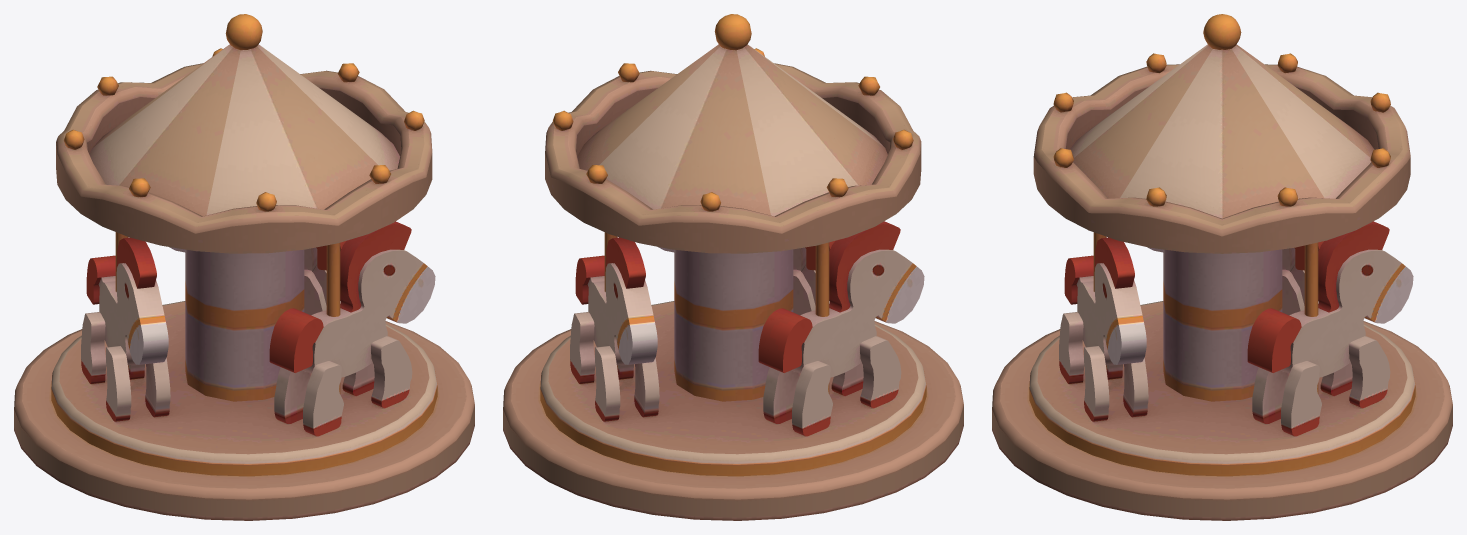
The model's file is Props.fbx.
The picture shows the model from 3 angles, left to right: view 1: azimuth 30°, elevation 25°; view 2: azimuth 150°, elevation 25°; view 3: azimuth 270°, elevation 25°; orthographic projection.
Parts seen in each view (by area): view 1: Muma; view 2: Muma; view 3: Muma.
Part boxes in pixels (<box>): Muma: <box>14,14,474,520</box>; Muma: <box>503,14,963,520</box>; Muma: <box>992,14,1452,520</box>.
Bounding box in the file's own units: 8.55 × 8.34 × 8.55.
1 material, 1 textured.
